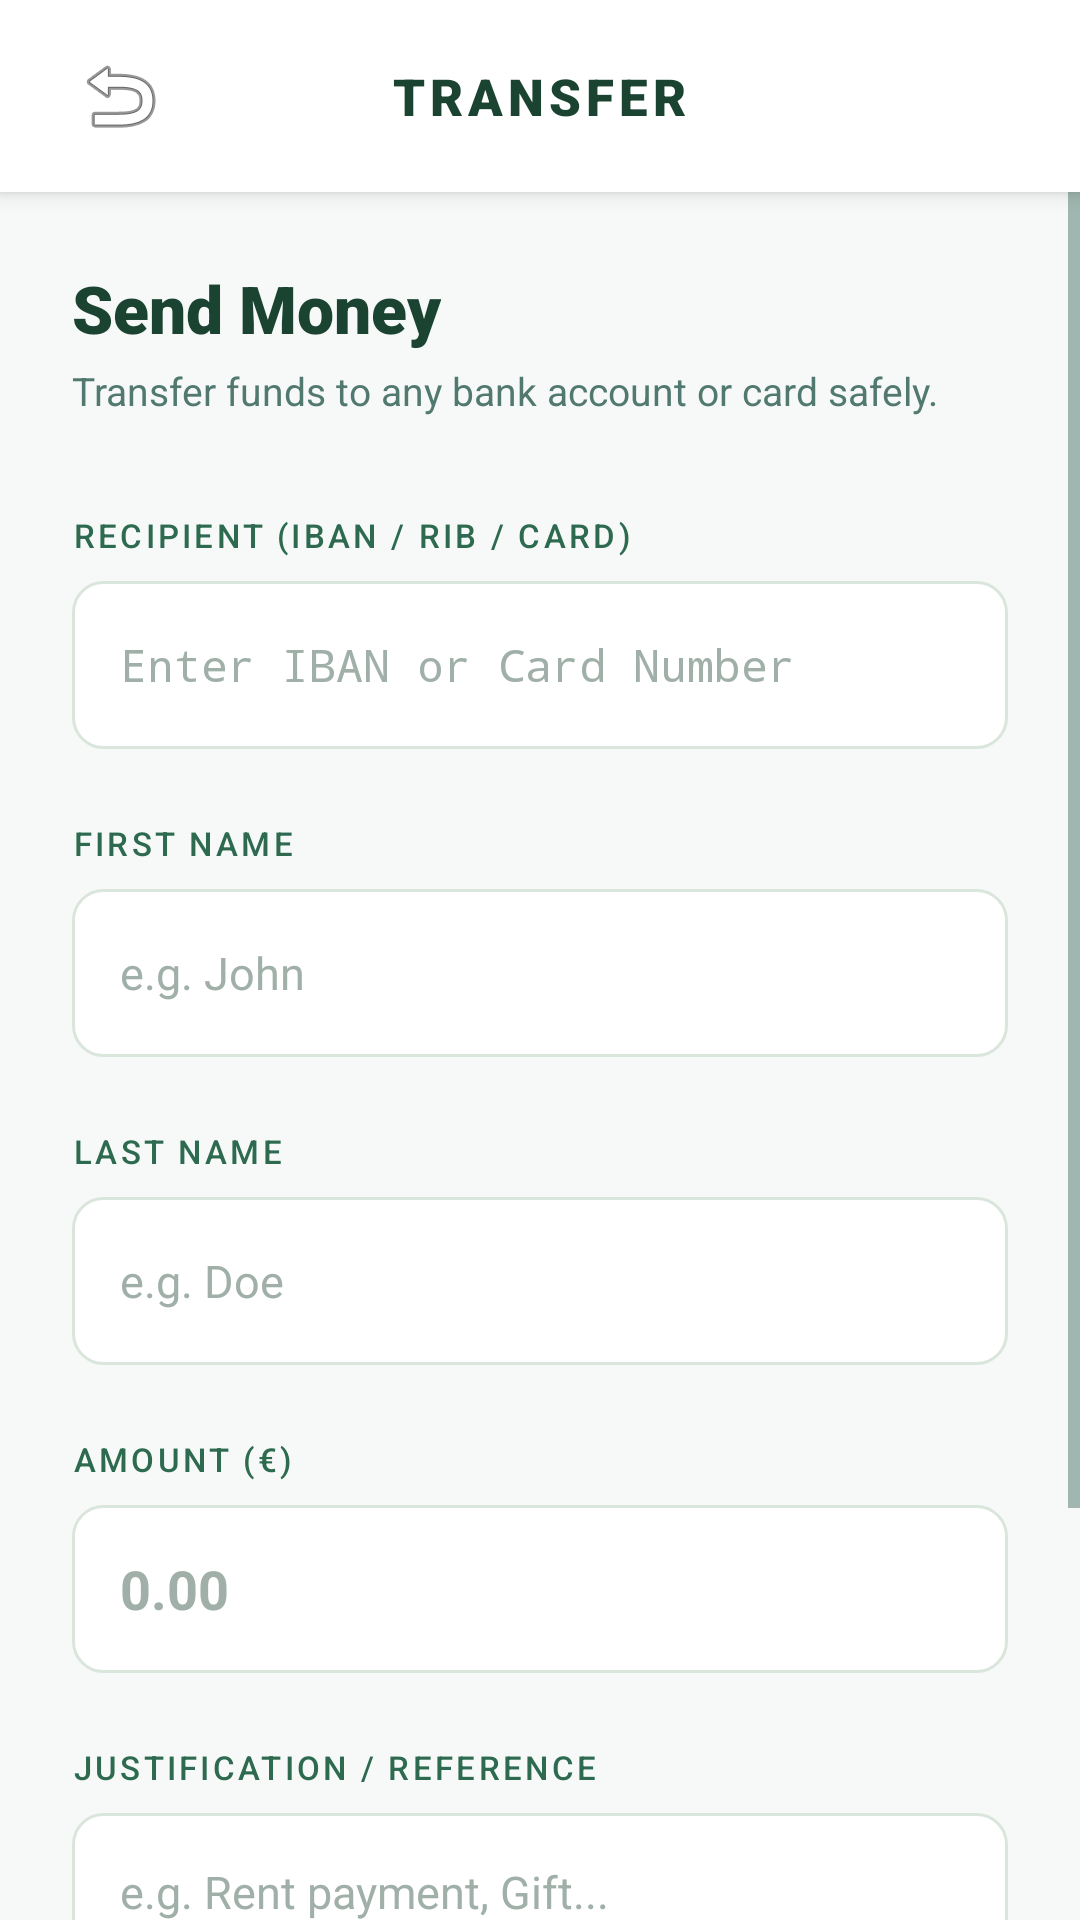

Icons on this 1080×1920 Android screen, each with its box as [x1, y1, x2, y2]:
Back: [87, 65, 156, 128]
